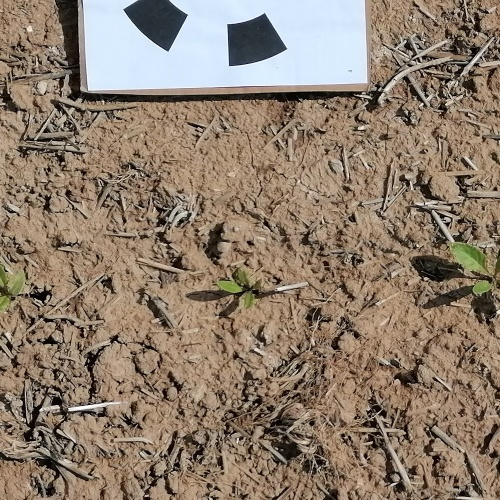beet: (450, 240, 500, 297), (217, 268, 265, 305), (0, 265, 28, 311)
